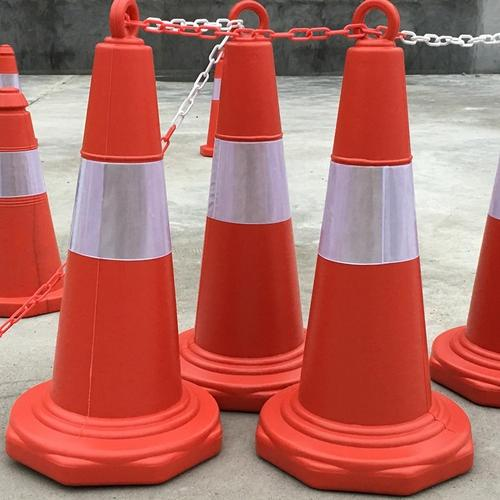cone_barrel: (287, 17, 450, 490), (41, 7, 193, 458), (182, 23, 308, 400), (448, 160, 496, 385)
